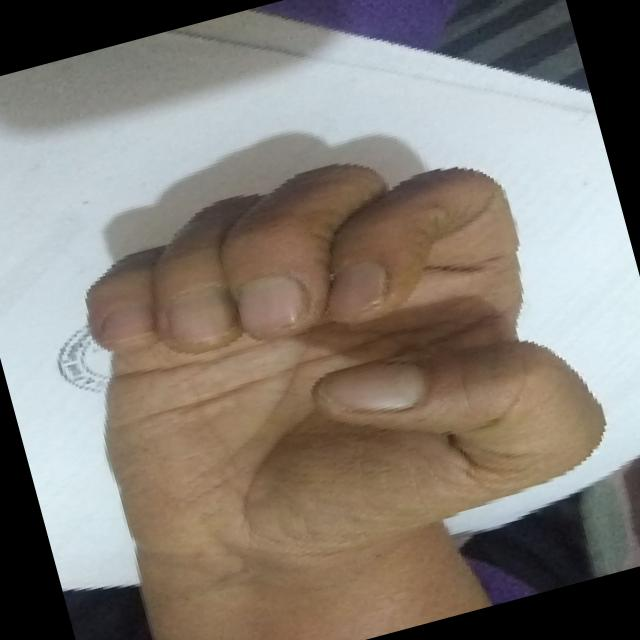Nail: (312, 361, 425, 412), (236, 274, 304, 335), (166, 285, 235, 343), (327, 260, 386, 317), (98, 306, 153, 338)
